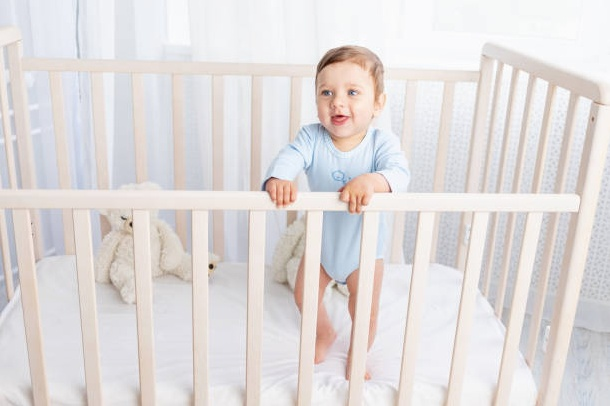baby: (263, 46, 409, 362)
crib: (0, 27, 609, 404)
